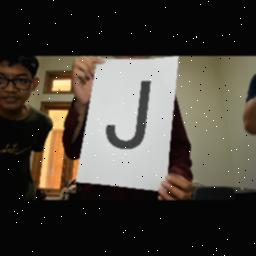j: (99, 75, 161, 161)
